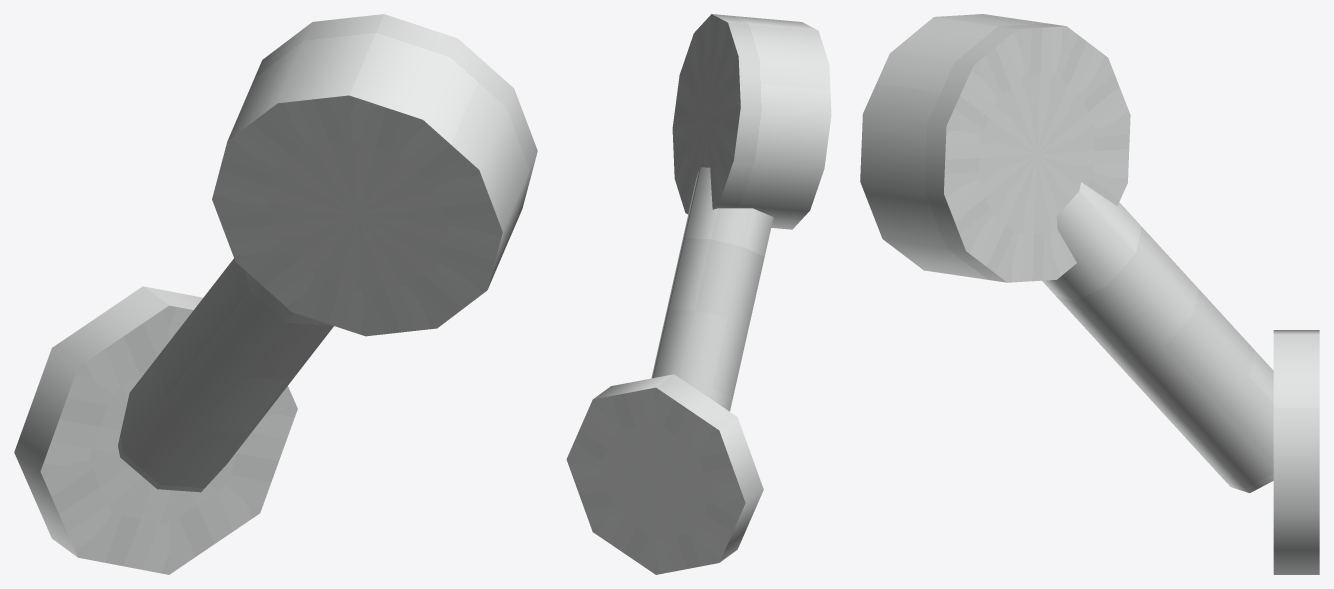
Rendered from nycsignalarm_stub_81.obj.
The picture shows the model from 3 angles, left to right: view 1: azimuth 30°, elevation 25°; view 2: azimuth 150°, elevation 25°; view 3: azimuth 270°, elevation 25°; orthographic projection. The views are drawn at different scales.
Parts seen in each view (by area): view 1: nycsignalarm_stub_81; view 2: nycsignalarm_stub_81; view 3: nycsignalarm_stub_81.
Part boxes in pixels (x1,y1,x2,y2): nycsignalarm_stub_81: [14, 14, 537, 574]; nycsignalarm_stub_81: [566, 14, 831, 574]; nycsignalarm_stub_81: [860, 14, 1319, 574].
Bounding box in the file's own units: 0.4204 × 0.8457 × 0.617.
